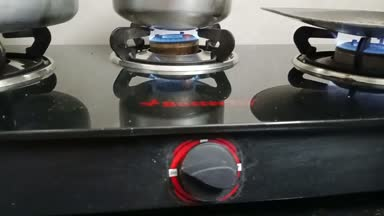flame_gas_on: (108, 18, 265, 205), (281, 19, 384, 98)
